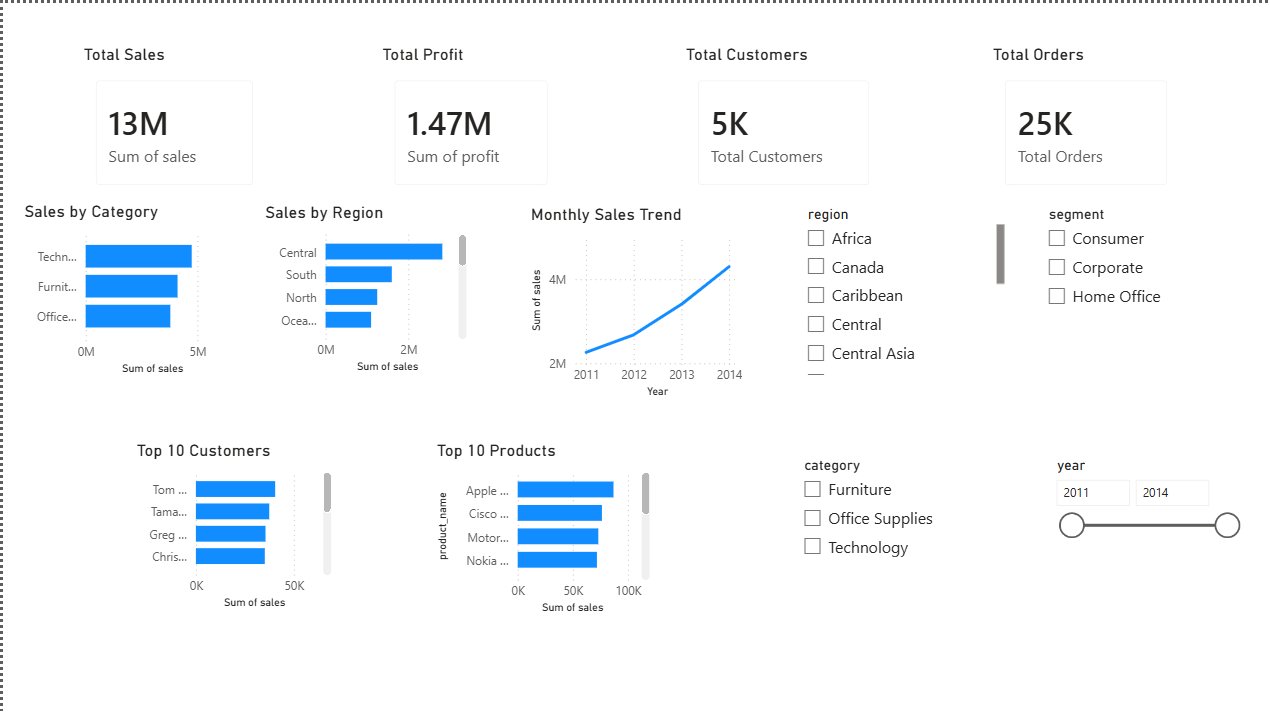

This screenshot's page, from the dashboard's own definition file:
{"tool":"powerbi","page":{"name":"Sales Analysis","canvas":[1280,720],"ordinal":0},"visuals":[{"type":"cardVisual","title":"Total Sales","fields":{"Data":["Sum(superstore_cleaned.sales)"]},"box":[77.5,41,193.7,159.5],"z":0},{"type":"clusteredBarChart","title":"Sales by Category","fields":{"Y":["Sum(superstore_cleaned.sales)"],"Category":["superstore_cleaned.category"]},"box":[15.9,200.5,216.4,180],"z":1000},{"type":"cardVisual","title":"Total Profit","fields":{"Data":["Sum(superstore_cleaned.profit)"]},"box":[378.2,41,189.1,159.5],"z":2000},{"type":"cardVisual","title":"Total Orders","fields":{"Data":["superstore_cleaned.Total Orders"]},"box":[995.6,41,198.2,159.5],"z":3000},{"type":"cardVisual","title":"Total Customers","fields":{"Data":["superstore_cleaned.Total Customers"]},"box":[685.8,41,207.3,159.5],"z":4000},{"type":"clusteredBarChart","title":"Sales by Region","fields":{"Category":["superstore_cleaned.region"],"Y":["Sum(superstore_cleaned.sales)"]},"box":[260,201.7,213.3,176.7],"z":5000},{"type":"lineChart","title":"Monthly Sales Trend","fields":{"Category":["superstore_cleaned.order_date.Variation.Date Hierarchy.Year","superstore_cleaned.order_date.Variation.Date Hierarchy.Month"],"Y":["Sum(superstore_cleaned.sales)"]},"box":[528.6,202.8,223.3,200.5],"z":6000},{"type":"clusteredBarChart","title":"Top 10 Customers","fields":{"Category":["superstore_cleaned.customer_name"],"Y":["Sum(superstore_cleaned.sales)"]},"box":[130,441.7,206.7,175],"z":7000},{"type":"clusteredBarChart","title":"Top 10 Products","fields":{"Category":["superstore_cleaned.product_name"],"Y":["Sum(superstore_cleaned.sales)"]},"box":[433.3,441.7,225,180],"z":8000},{"type":"slicer","fields":{"Values":["superstore_cleaned.region"]},"box":[800,200,216.7,180],"z":9000},{"type":"slicer","fields":{"Values":["superstore_cleaned.segment"]},"box":[1043.3,200,215,180],"z":10000},{"type":"slicer","fields":{"Values":["superstore_cleaned.category"]},"box":[796.7,453.3,223.3,180],"z":11000},{"type":"slicer","fields":{"Values":["superstore_cleaned.year"]},"box":[1051.7,453.3,206.7,180],"z":12000}]}

Visuals, with their boxes in screenshot pixels (x1, y1, x2, y2), scaled from the page's 1280x720 canvas onto the 1270x712 screenshot:
"Total Sales" cardVisual: l=77, t=41, r=269, b=198
"Sales by Category" clusteredBarChart: l=16, t=198, r=230, b=376
"Total Profit" cardVisual: l=375, t=41, r=563, b=198
"Total Orders" cardVisual: l=988, t=41, r=1184, b=198
"Total Customers" cardVisual: l=680, t=41, r=886, b=198
"Sales by Region" clusteredBarChart: l=258, t=199, r=470, b=374
"Monthly Sales Trend" lineChart: l=524, t=201, r=746, b=399
"Top 10 Customers" clusteredBarChart: l=129, t=437, r=334, b=610
"Top 10 Products" clusteredBarChart: l=430, t=437, r=653, b=615
slicer - superstore_cleaned.region: l=794, t=198, r=1009, b=376
slicer - superstore_cleaned.segment: l=1035, t=198, r=1248, b=376
slicer - superstore_cleaned.category: l=790, t=448, r=1012, b=626
slicer - superstore_cleaned.year: l=1043, t=448, r=1249, b=626
